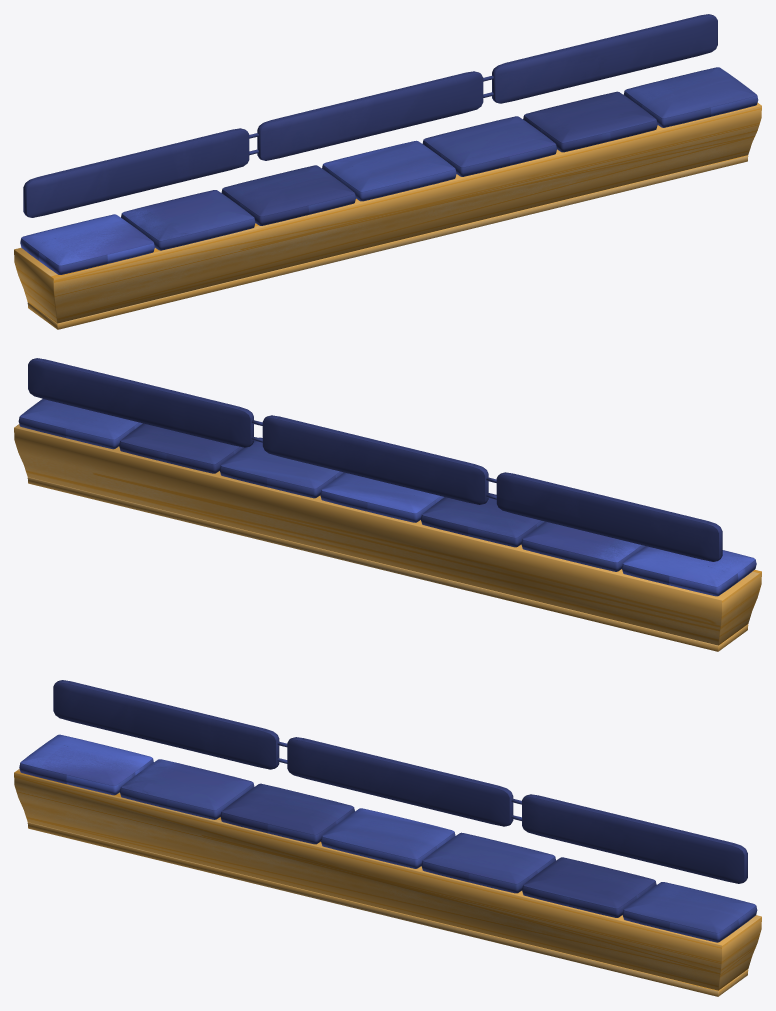
Rendered from GG_Level1_Asset_Table_LongCouch.fbx.
The picture shows the model from 3 angles, top to bottom: view 1: azimuth 30°, elevation 25°; view 2: azimuth 150°, elevation 25°; view 3: azimuth 330°, elevation 25°; orthographic projection.
Parts seen in each view (by area): view 1: bench_01_Mesh; view 2: bench_01_Mesh; view 3: bench_01_Mesh.
Part boxes in pixels (x1,y1,x2,y2): bench_01_Mesh: (14,14,761,329); bench_01_Mesh: (14,358,761,651); bench_01_Mesh: (14,680,761,996).
Bounding box in the file's own units: 514 × 88.48 × 51.18.
1 material, 1 textured.
